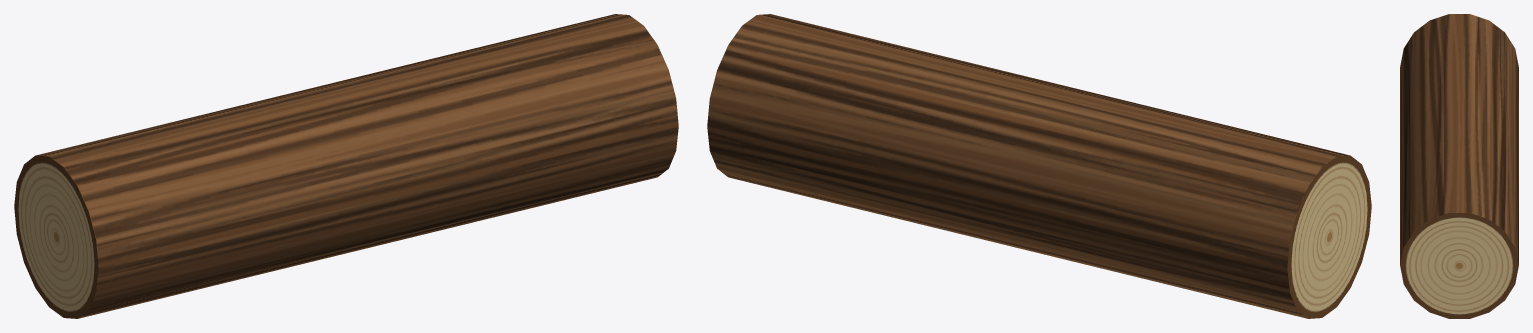
The model's file is log.glb.
3 views of the same model, side by side, from view 1: azimuth 30°, elevation 25°; view 2: azimuth 150°, elevation 25°; view 3: azimuth 270°, elevation 25° (orthographic). The views are drawn at different scales.
Bounding box in the file's own units: 2.4 × 0.5958 × 0.605.
3 materials, 3 textured.
